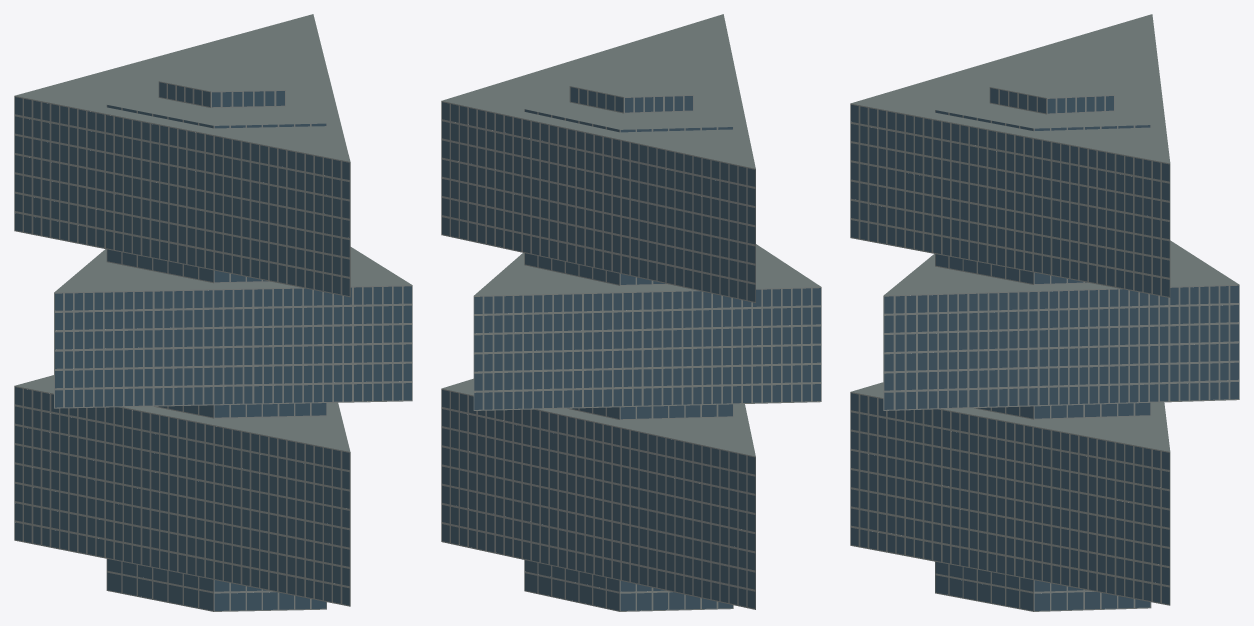
Rendered from nhow-amsterdam-rai-near.glb.
3 views of the same model, side by side, from view 1: azimuth 30°, elevation 25°; view 2: azimuth 150°, elevation 25°; view 3: azimuth 270°, elevation 25° (orthographic).
Visible parts, largest first — view 1: nhow-amsterdam-rai-0-glass, nhow-amsterdam-rai-0-metal, nhow-amsterdam-rai-0-roof; view 2: nhow-amsterdam-rai-0-glass, nhow-amsterdam-rai-0-metal, nhow-amsterdam-rai-0-roof; view 3: nhow-amsterdam-rai-0-glass, nhow-amsterdam-rai-0-metal, nhow-amsterdam-rai-0-roof.
Boxes of the visible parts, box(x1,y1,x2,y2) form: nhow-amsterdam-rai-0-glass: box(15, 82, 411, 610); nhow-amsterdam-rai-0-metal: box(14, 81, 412, 611); nhow-amsterdam-rai-0-roof: box(14, 14, 412, 451); nhow-amsterdam-rai-0-glass: box(442, 87, 820, 610); nhow-amsterdam-rai-0-metal: box(441, 86, 821, 611); nhow-amsterdam-rai-0-roof: box(441, 14, 820, 456); nhow-amsterdam-rai-0-glass: box(851, 88, 1238, 610); nhow-amsterdam-rai-0-metal: box(850, 87, 1239, 611); nhow-amsterdam-rai-0-roof: box(850, 14, 1238, 451).
Size of the model in its own units: 60.89 by 91 by 64.23.
